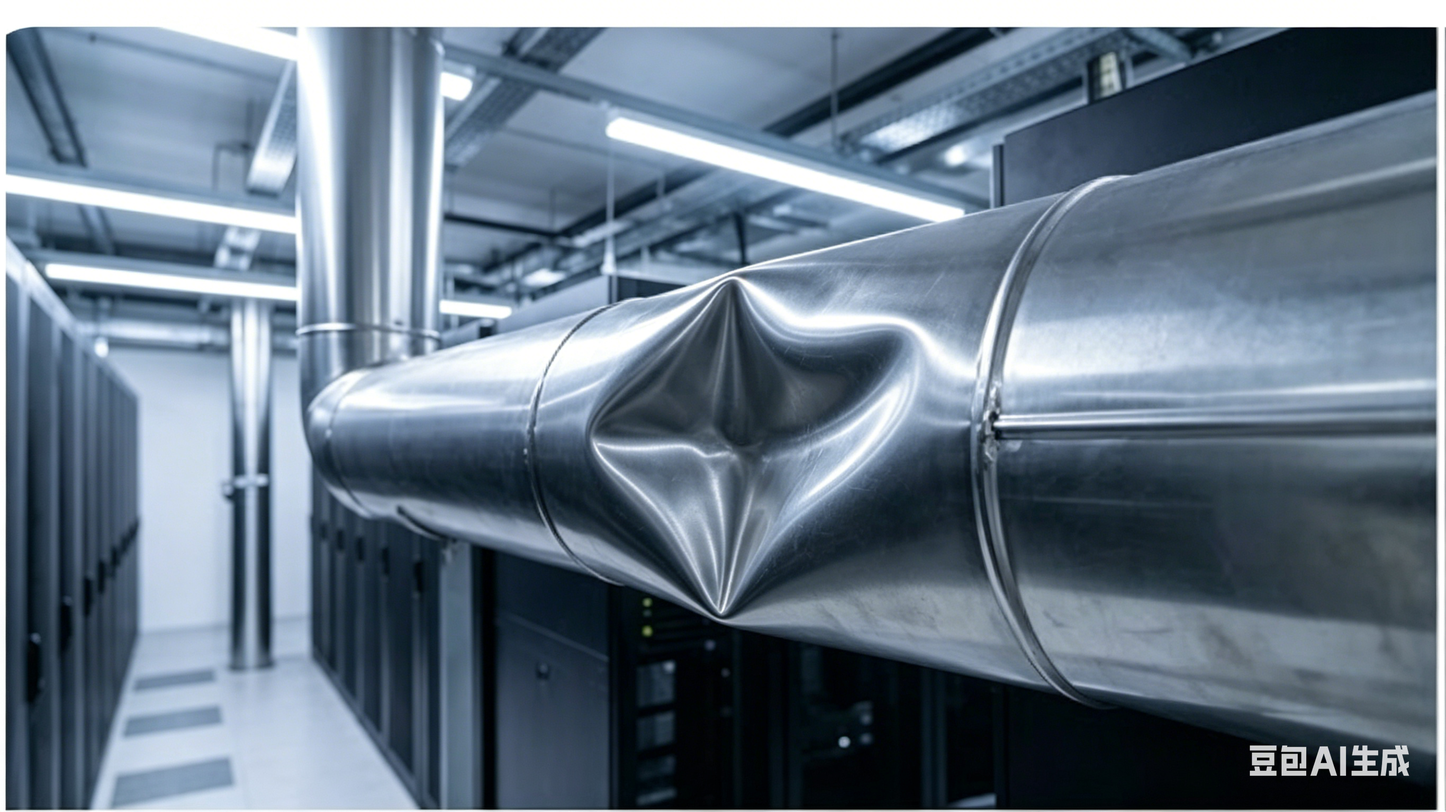Leakage: (577, 257, 934, 616)
